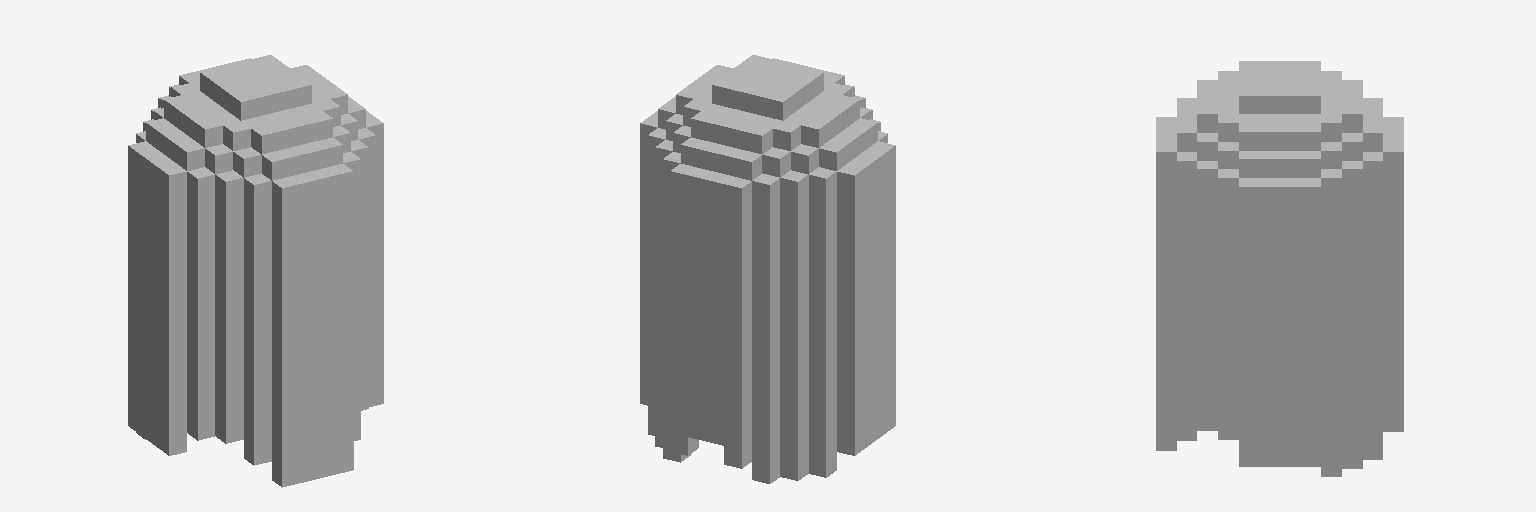
Rendered from GhostBody4.obj.
3 renders of one model, left to right at view 1: azimuth 30°, elevation 25°; view 2: azimuth 150°, elevation 25°; view 3: azimuth 270°, elevation 25°, orthographic.
Visible parts, largest first — view 1: object 1; view 2: object 1; view 3: object 1.
Boxes of the visible parts, box(x1,y1,x2,y2) form: object 1: box(128, 55, 383, 487); object 1: box(640, 55, 895, 483); object 1: box(1156, 61, 1403, 476).
Size of the model in its own units: 1.2 by 1.9 by 1.2.